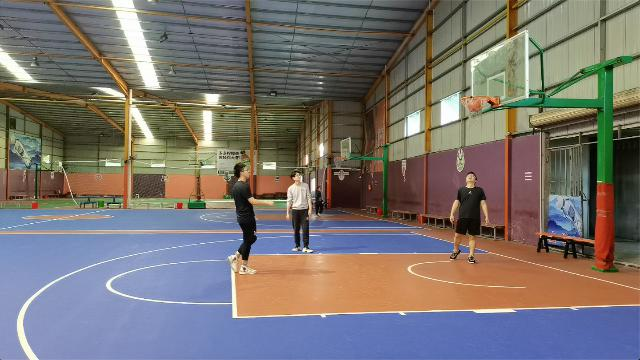basket: (460, 94, 490, 122)
goal: (465, 95, 483, 112)
